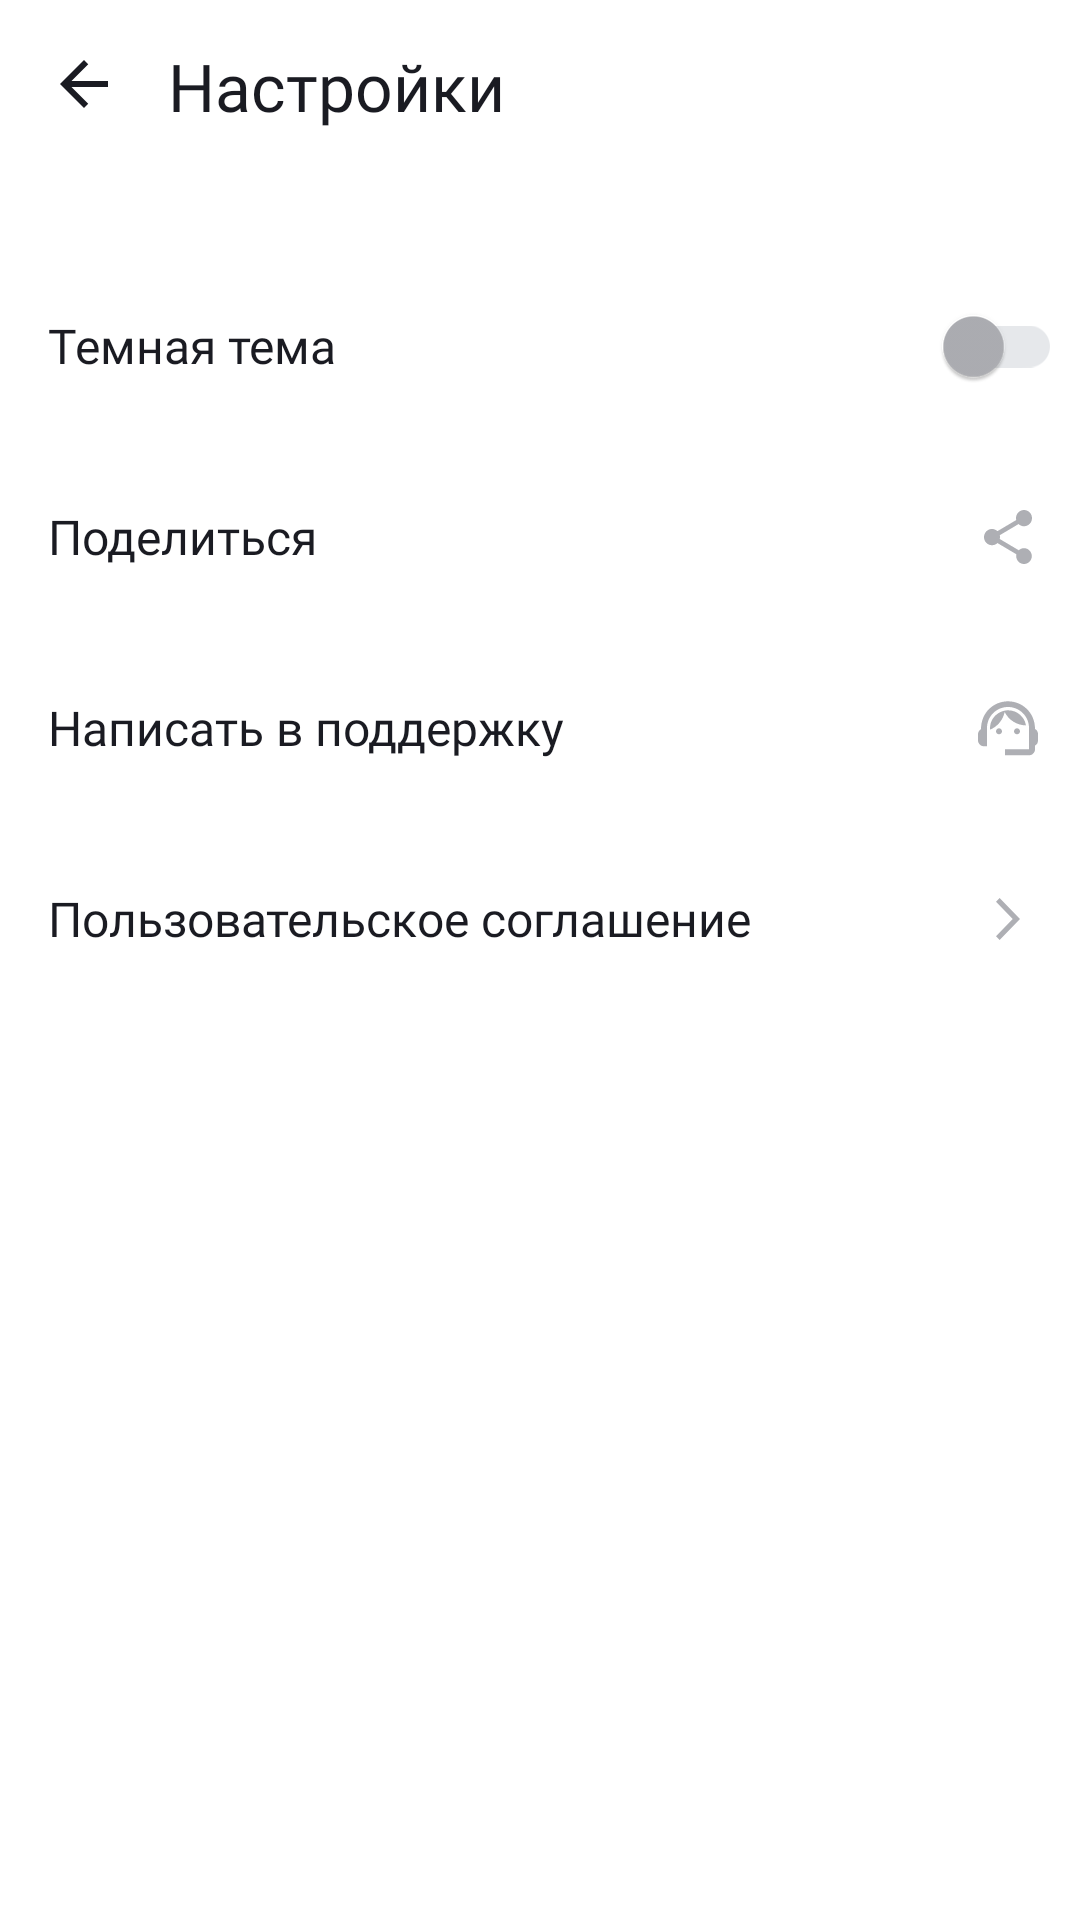

Named icons in this screenshot (1080 x 1920) and their bounding boxes, bbox=[x1, y1, x2, y2]:
share: bbox=[984, 510, 1032, 564]
support: bbox=[978, 701, 1038, 755]
